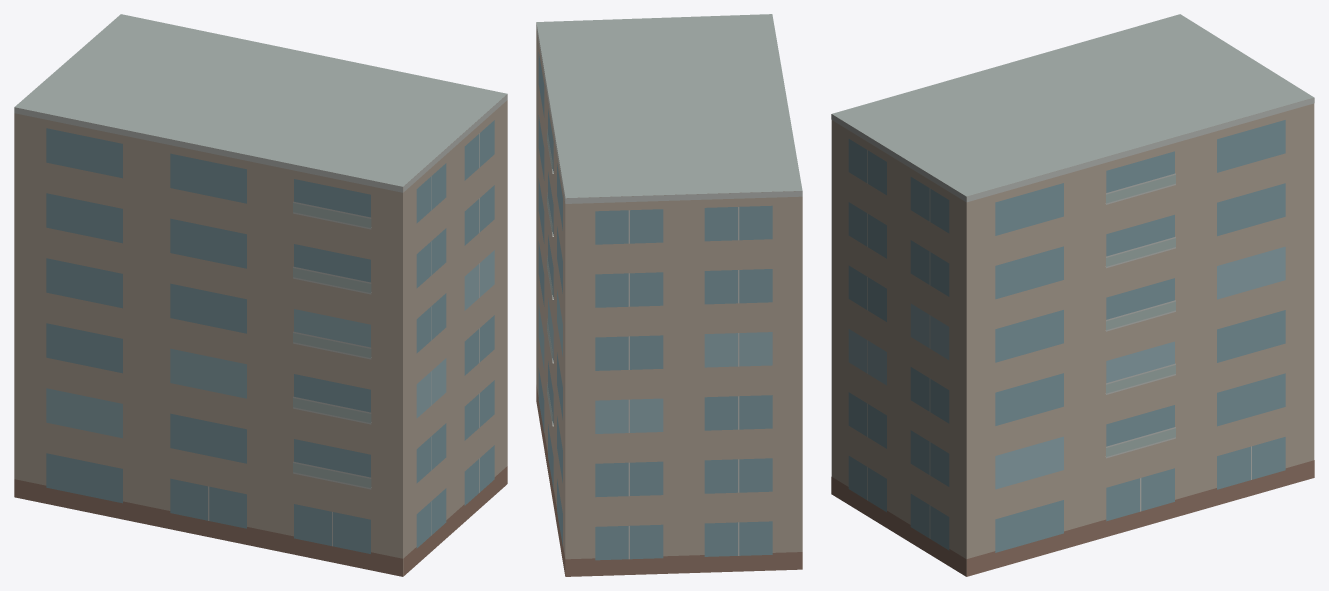
The model's file is survey-upis-33019382.glb.
The picture shows the model from 3 angles, left to right: view 1: azimuth 30°, elevation 25°; view 2: azimuth 150°, elevation 25°; view 3: azimuth 270°, elevation 25°; orthographic projection. The views are drawn at different scales.
Parts seen in each view (by area): view 1: survey-upis-33019382.tmp; view 2: survey-upis-33019382.tmp; view 3: survey-upis-33019382.tmp.
Part boxes in pixels (left/top/right/bottom): survey-upis-33019382.tmp: left=14, top=14, right=507, bottom=576; survey-upis-33019382.tmp: left=536, top=14, right=802, bottom=576; survey-upis-33019382.tmp: left=831, top=14, right=1314, bottom=576.
Bounding box in the file's own units: 16.28 × 15.8 × 18.19.
